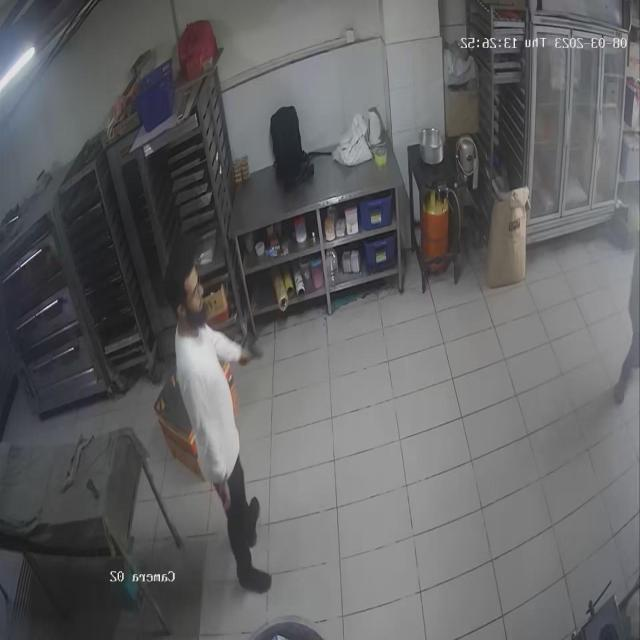Gun: (229, 323, 272, 371)
